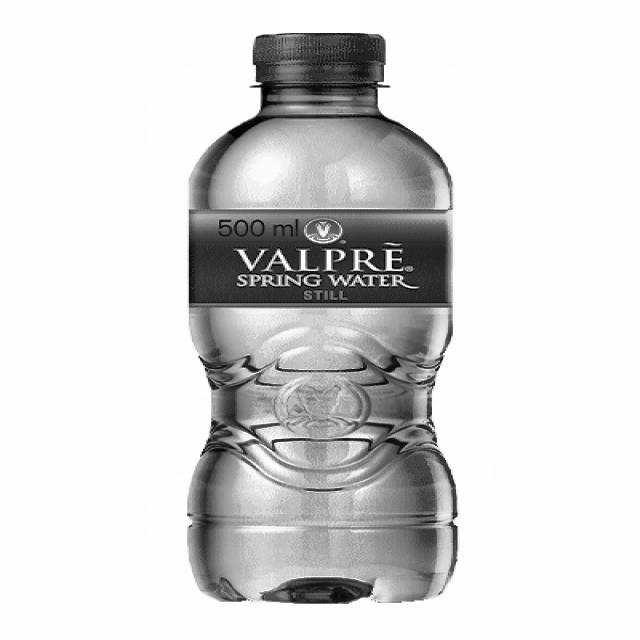waterbottle: (189, 33, 456, 604)
